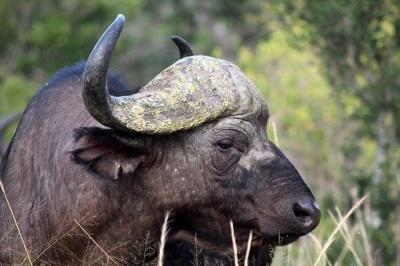buffalo: (0, 14, 320, 265)
